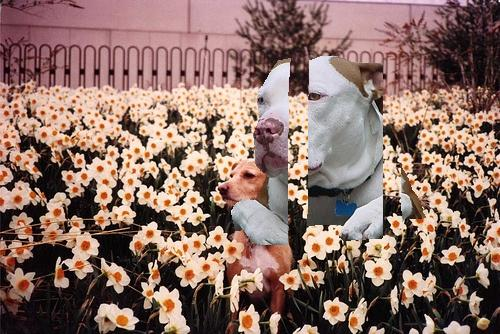tampered: (232, 57, 426, 245)
